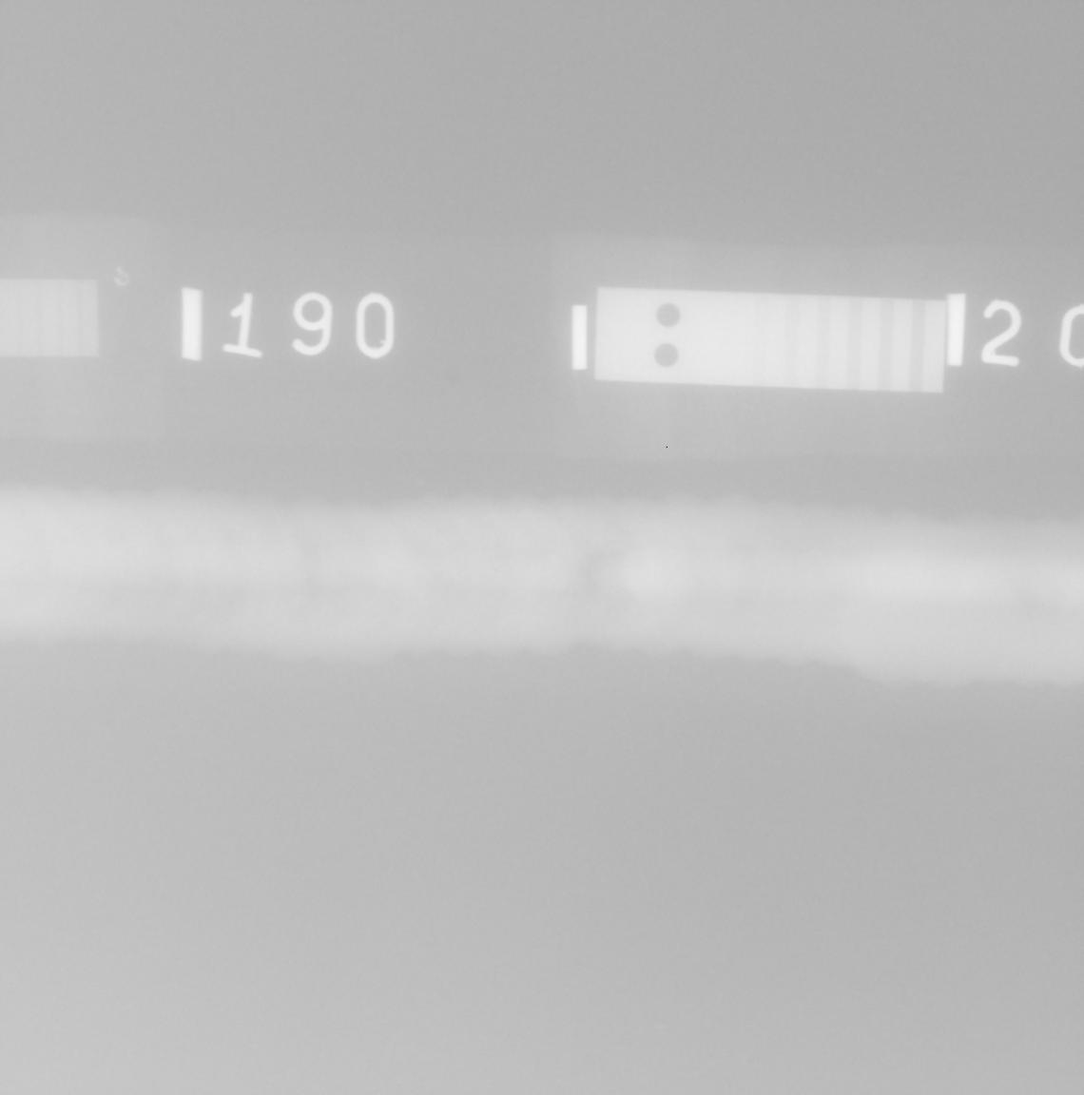Pore/Porosity: (573, 592, 577, 598), (493, 568, 497, 572)
Reference Standard 2: (595, 287, 945, 392)
